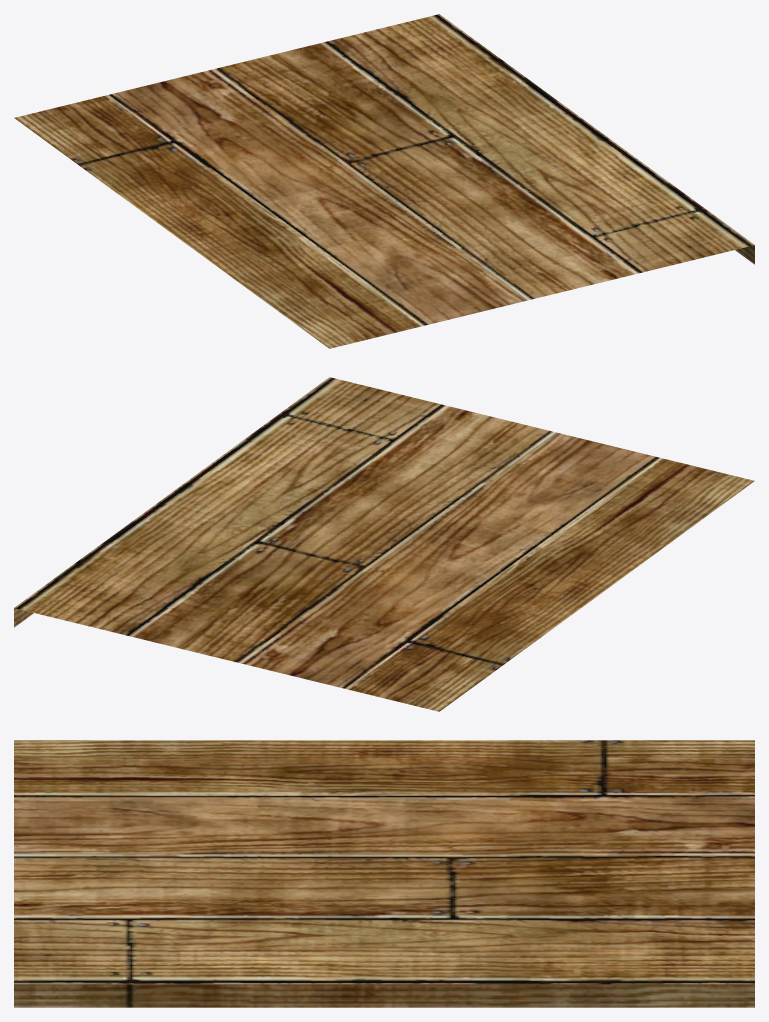
The model's file is LAKETOWN_PUB_ANIM_PUB_TRAP_DOOR__AI.fbx.
3 views of the same model, one above another, from view 1: azimuth 30°, elevation 25°; view 2: azimuth 150°, elevation 25°; view 3: azimuth 270°, elevation 25° (orthographic). The views are drawn at different scales.
Parts seen in each view (by area): view 1: LAKETOWN_PUB_ANIM_PUB_TRAP_DOOR__AI; view 2: LAKETOWN_PUB_ANIM_PUB_TRAP_DOOR__AI; view 3: LAKETOWN_PUB_ANIM_PUB_TRAP_DOOR__AI.
Boxes of the visible parts, x1,y1,x2,y2 form: LAKETOWN_PUB_ANIM_PUB_TRAP_DOOR__AI: (14, 14, 754, 348); LAKETOWN_PUB_ANIM_PUB_TRAP_DOOR__AI: (14, 377, 754, 711); LAKETOWN_PUB_ANIM_PUB_TRAP_DOOR__AI: (14, 740, 754, 1007).
Bounding box in the file's own units: 14637 × 650 × 18802.
1 material, 1 textured.
